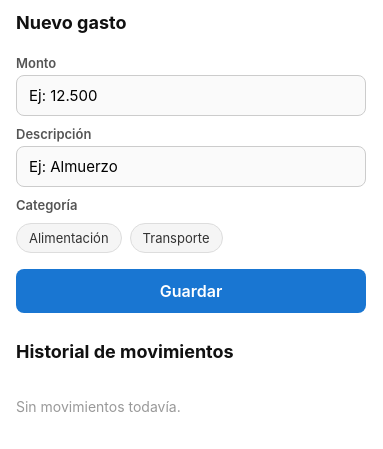
MovimientosScreen (criterios E1-E5) › E3: monto inválido no guarda y muestra error-monto
Type "abc" into the field with test id "input-monto" at (191, 96), box top-left (16, 75), bottom-right (366, 116)
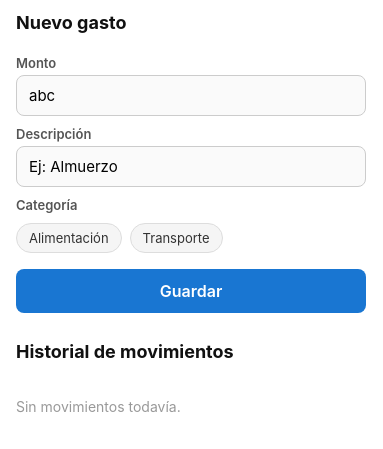
Type "Algo" into the field with test id "input-descripcion" at (191, 166), box top-left (16, 146), bottom-right (366, 187)
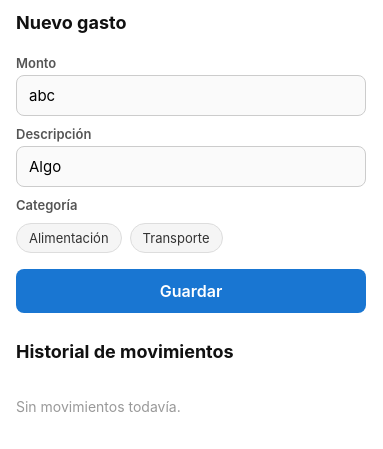
Click the element with test id "btn-guardar" at (191, 291), box top-left (16, 269), bottom-right (366, 313)
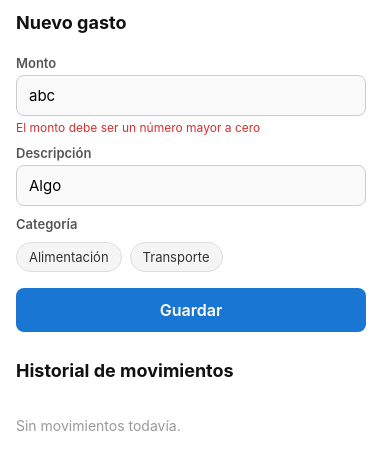
expect the text "El monto debe ser un número mayor a cero" is shown: met, box top-left (16, 120), bottom-right (260, 135)
